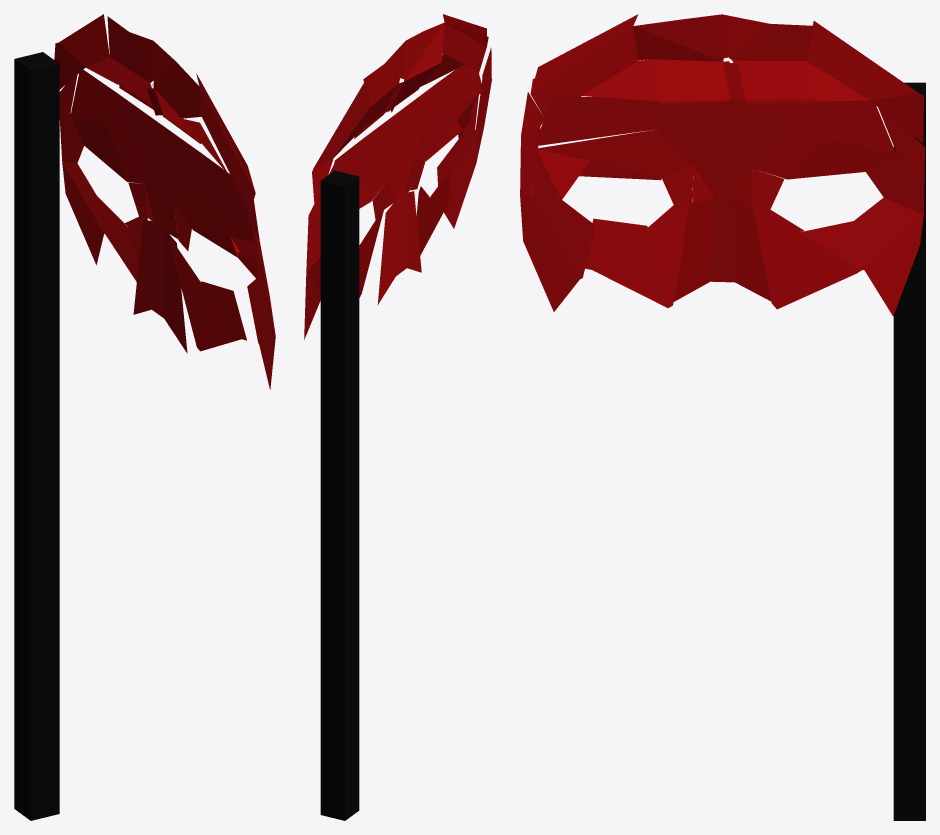
3 renders of one model, left to right at view 1: azimuth 30°, elevation 25°; view 2: azimuth 150°, elevation 25°; view 3: azimuth 270°, elevation 25°, orthographic. The views are drawn at different scales.
Visible parts, largest first — view 1: Cube; view 2: Cube; view 3: Cube.
Boxes of the visible parts, x1,y1,x2,y2 form: Cube: [14, 14, 275, 820]; Cube: [304, 14, 491, 820]; Cube: [520, 14, 925, 820].
Size of the model in its own units: 0.6649 by 8.01 by 3.64.
